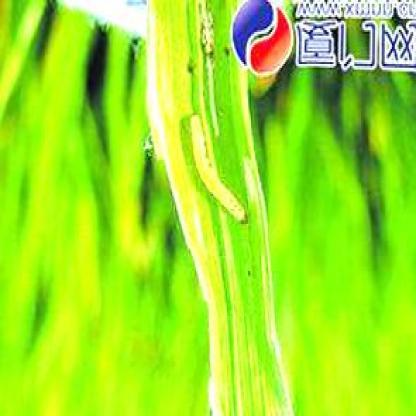leaf-folder: (167, 95, 268, 234)
